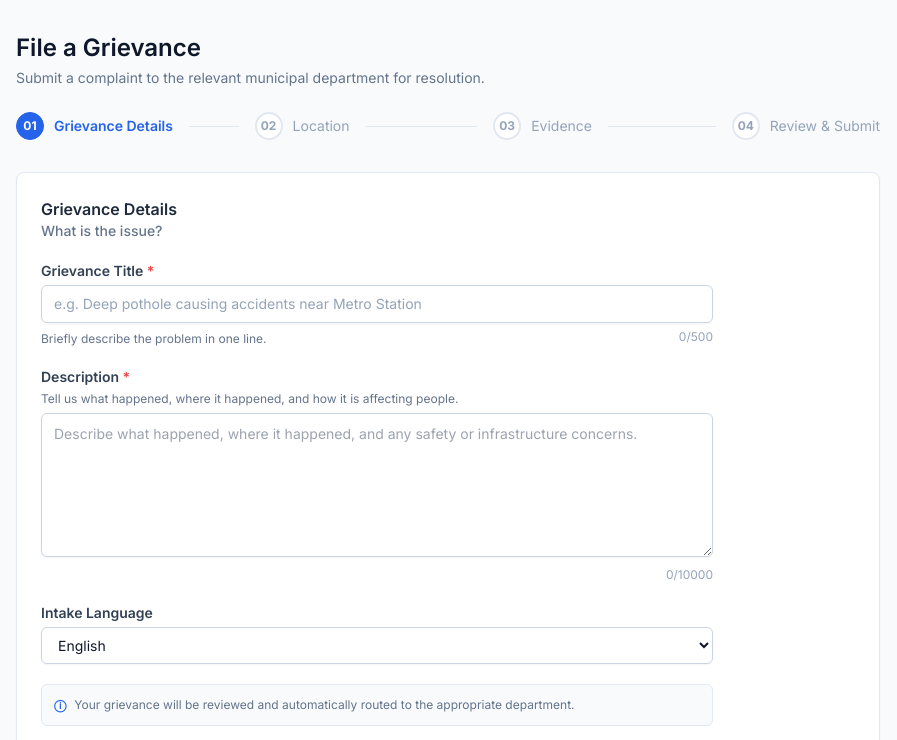
Citizen Complaint Form, Hinglish Support & Error Handling › displays validation error message on HTTP 422 instead of network error
This screenshot has width=897, height=740.
Type "Road leak" into the field with placeholder "e.g. Deep pothole causing accidents near Metro Station" at (377, 304), box [41, 285, 713, 323]
Replace the text in the text box with placeholder "Describe what happened" with "Description" at (377, 485), box [41, 413, 713, 557]
(page scrolled)
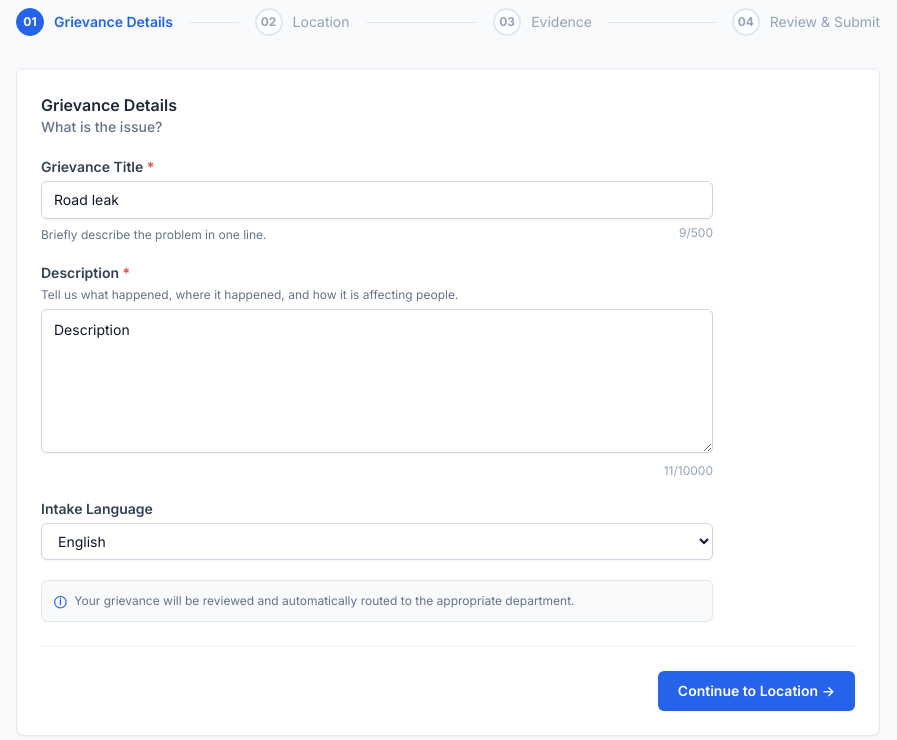
Click the button "Continue to Location →" at (756, 691), box [658, 671, 855, 711]
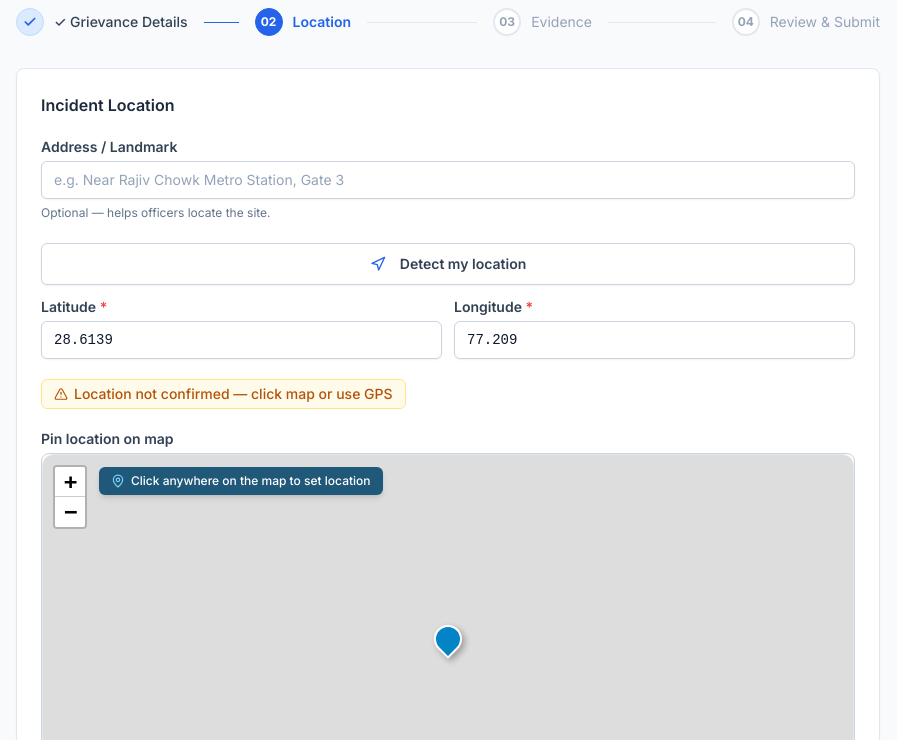
Replace the text in the number field labelled "Latitude *" with "28.6140" at (242, 340), box [41, 321, 442, 359]
(page scrolled)
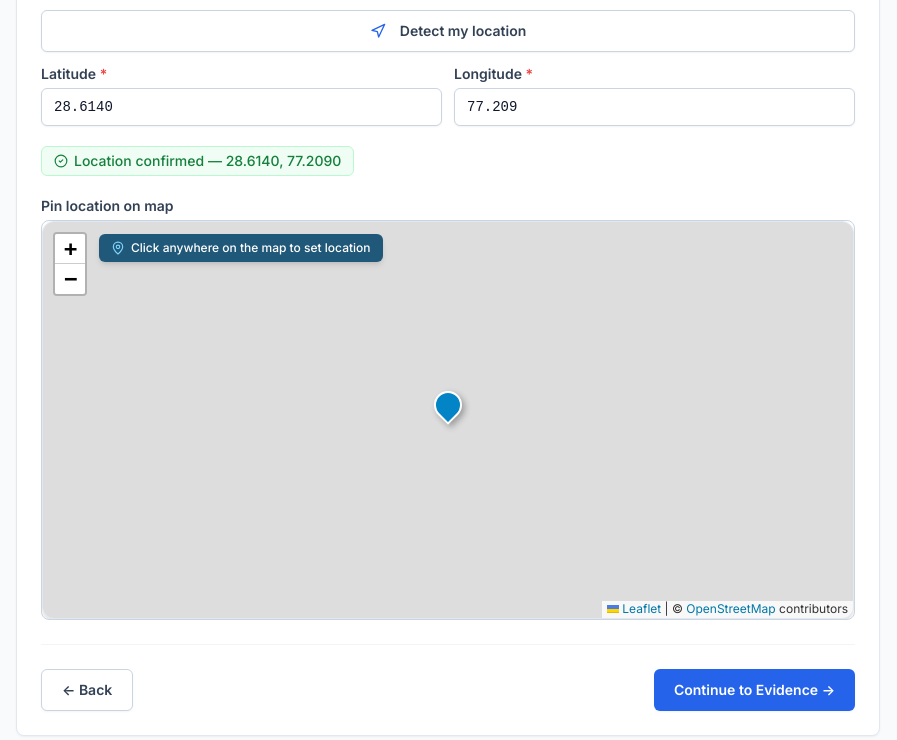
Click the button "Continue to Evidence →" at (754, 690), box [654, 669, 855, 711]
(page scrolled)
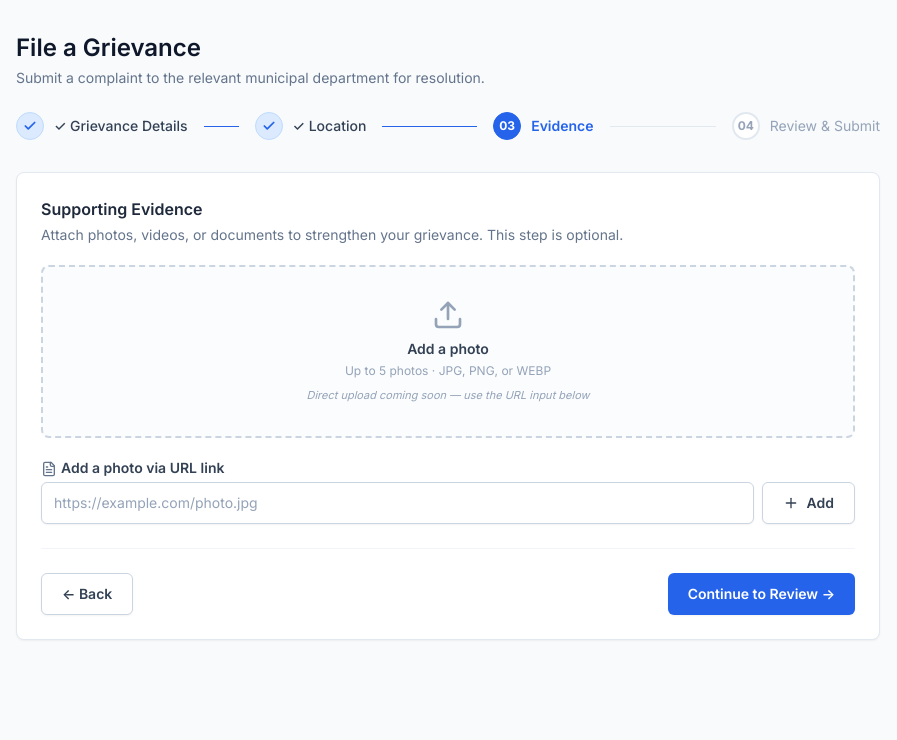
Click the button "Continue to Review →" at (761, 594), box [668, 572, 855, 614]
(page scrolled)
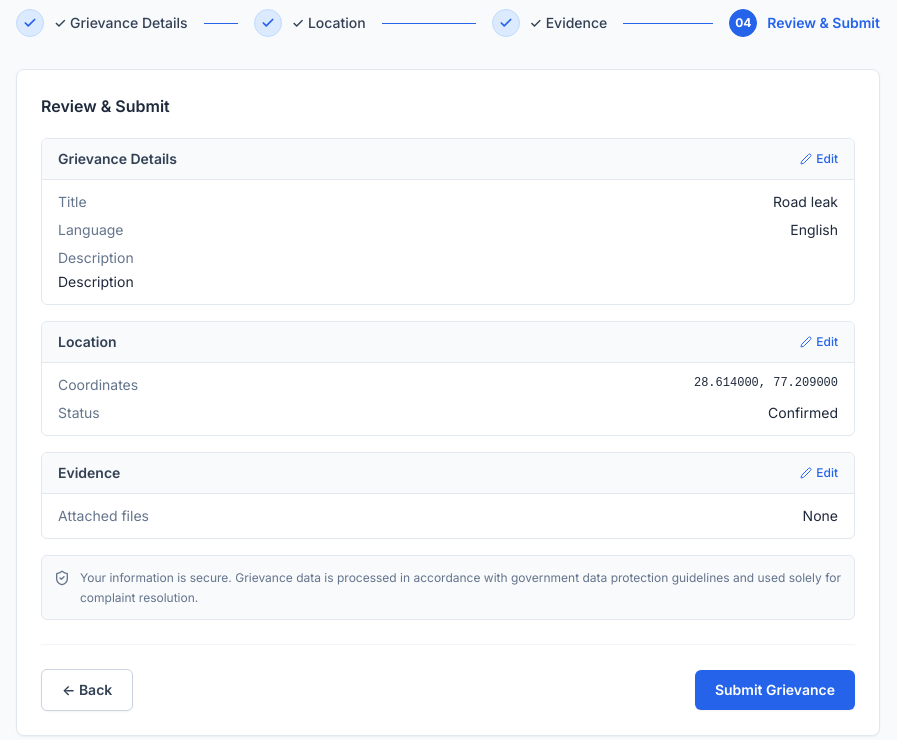
Click the button "Submit Grievance" at (775, 690), box [695, 670, 855, 710]
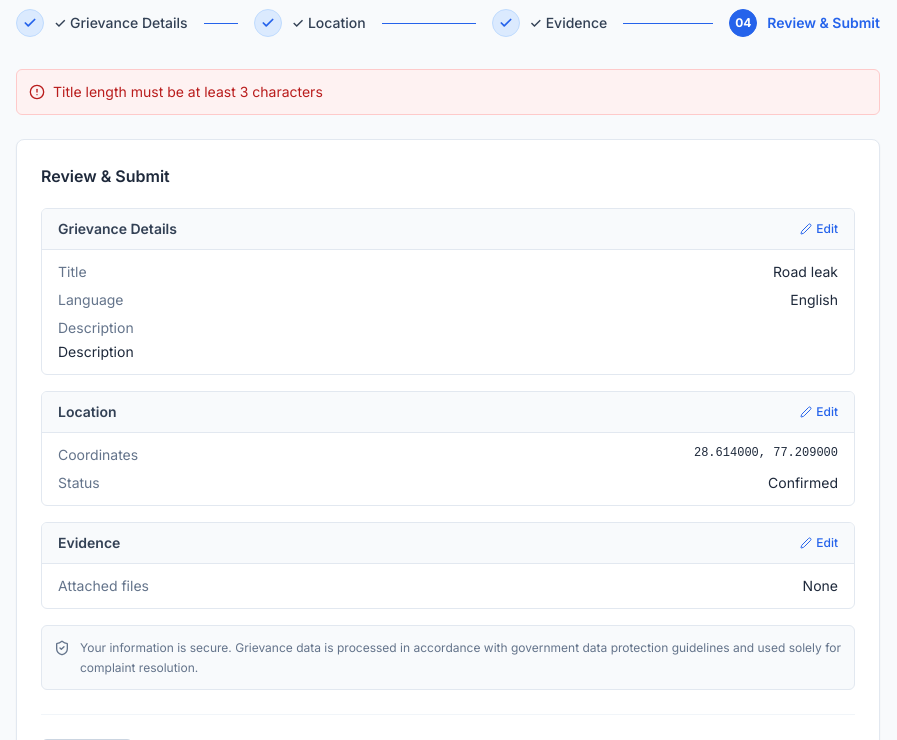
Expected: the text "Title length must be at least 3 characters" is shown, [53, 82, 323, 102]
